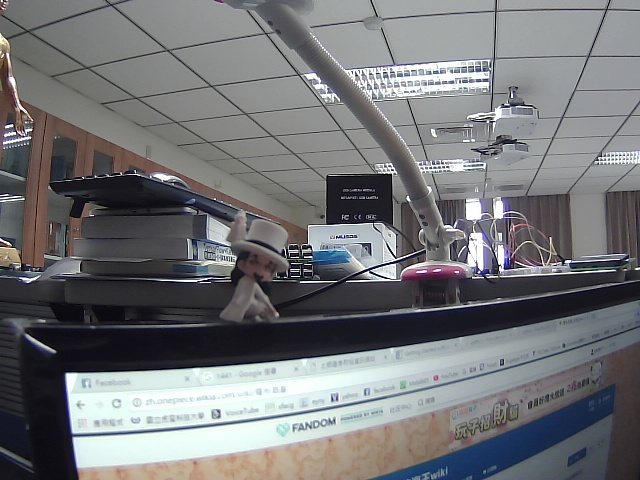lucci: (221, 206, 293, 331)
